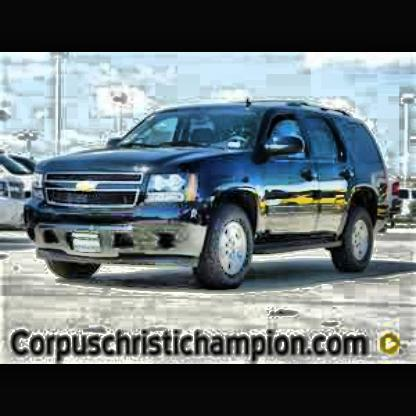Chevrolet Tahoe Hybrid SUV 2012: (26, 100, 396, 296)
